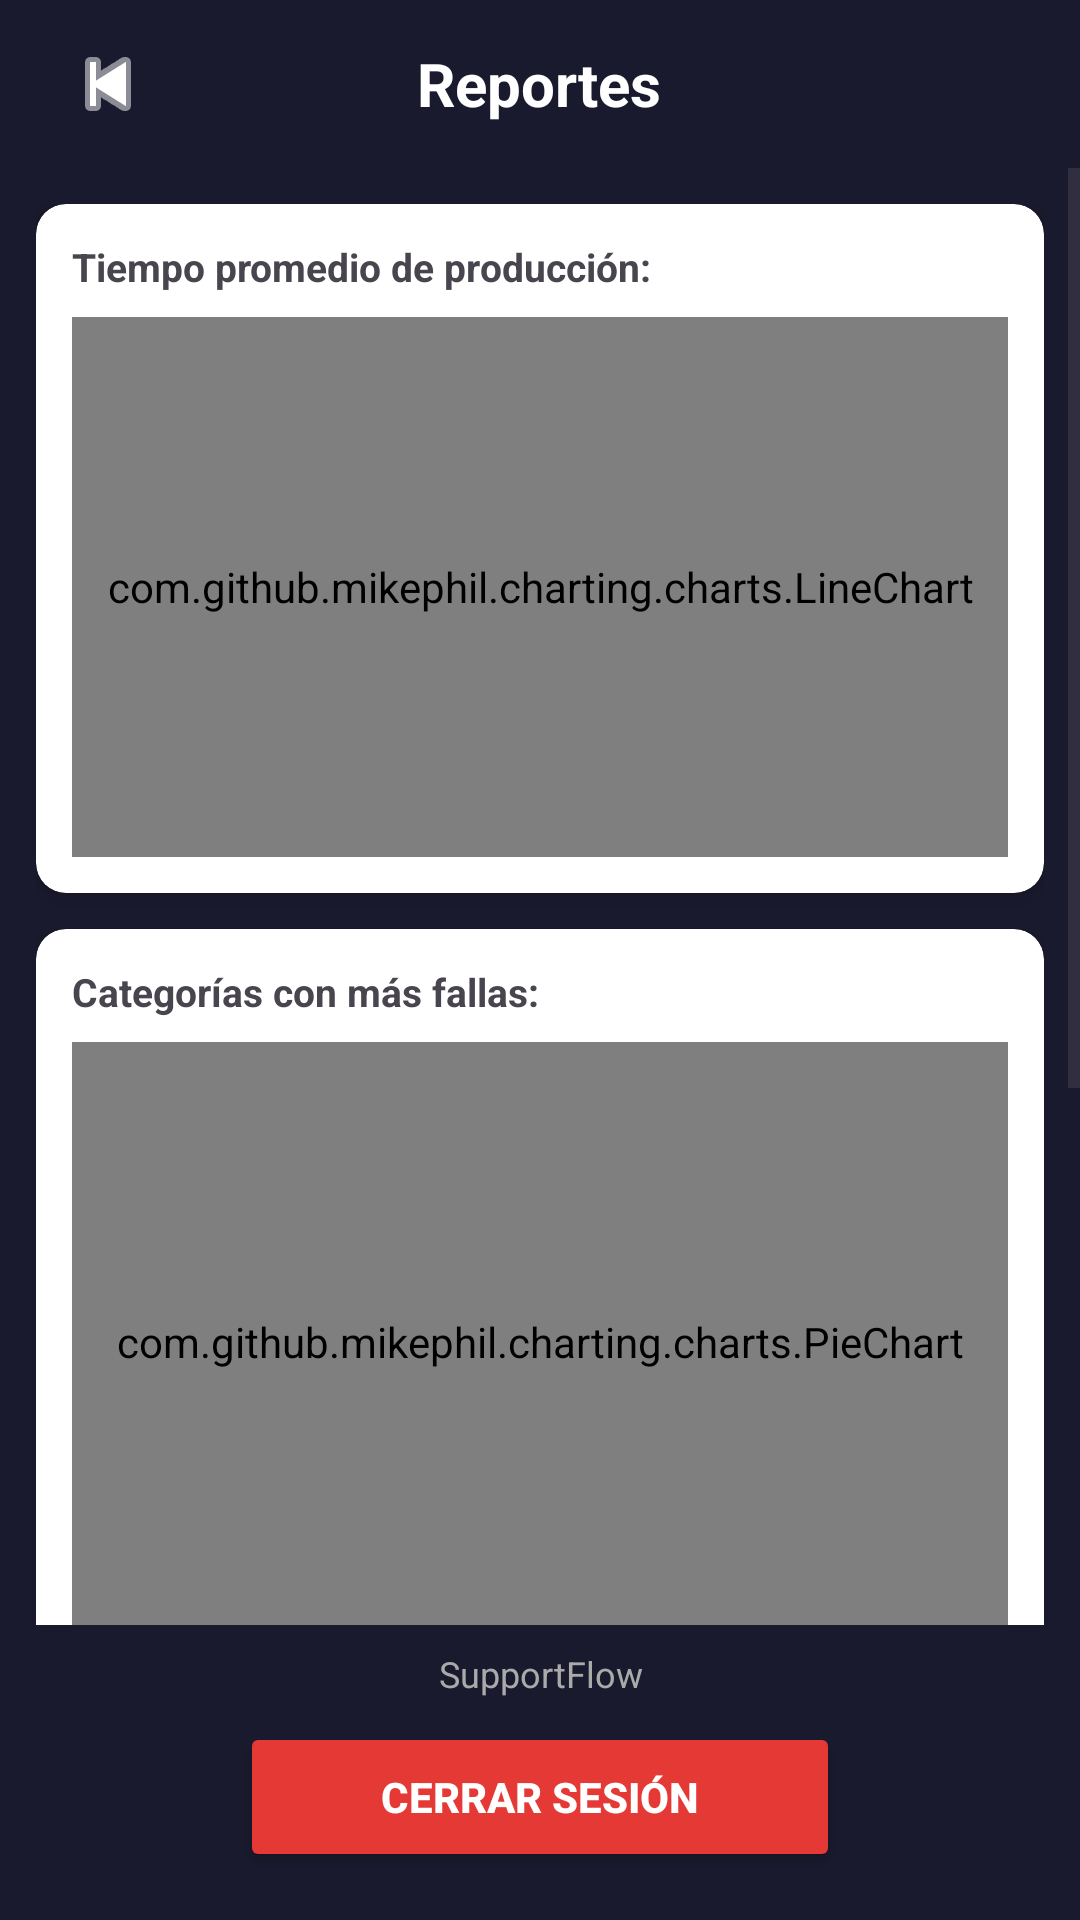

Screen size 1080px x 1920px. Icon name, then its center in pixels as point (x, y):
Regresar: point (108, 84)
